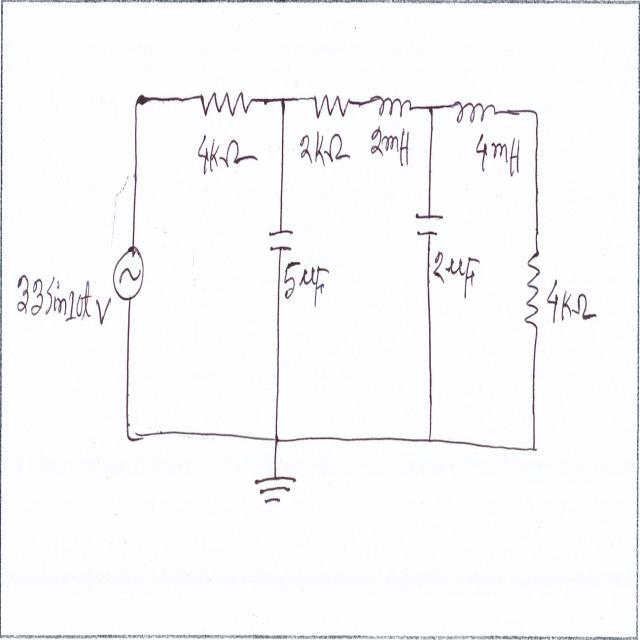ac_current: (112, 244, 146, 303)
capacitor: (411, 204, 447, 241), (264, 222, 296, 258)
ground: (251, 469, 299, 511)
inductor: (452, 88, 497, 133), (368, 88, 416, 127)
resistor: (198, 72, 252, 127), (521, 244, 543, 333), (311, 88, 354, 132)
